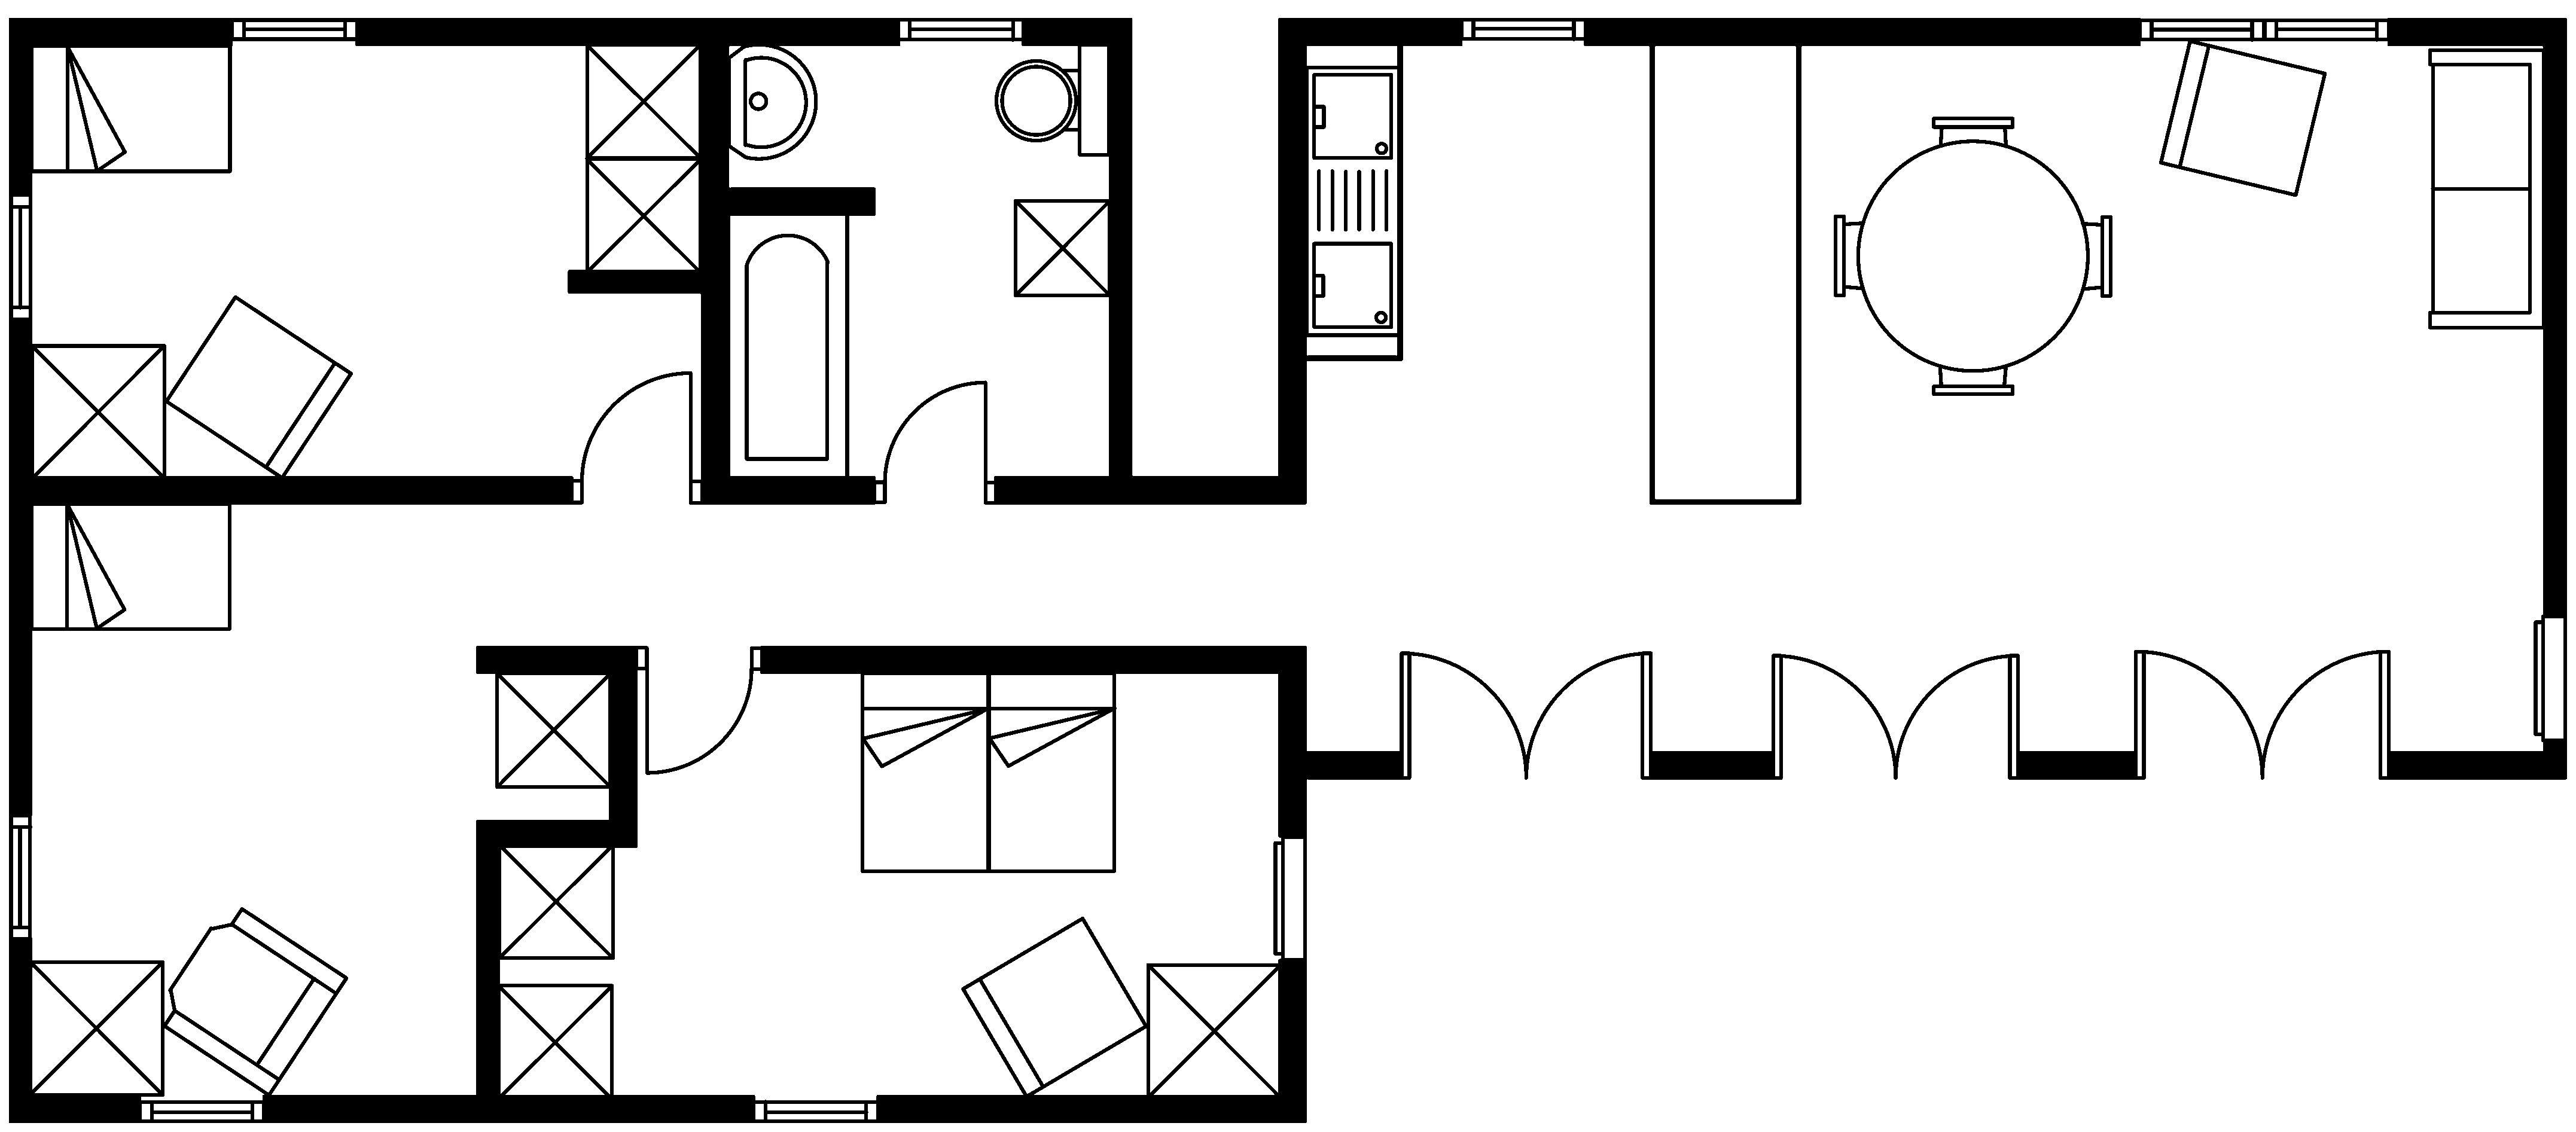armchair: (161, 905, 348, 1097)
bed: (30, 43, 232, 174), (859, 670, 991, 872), (986, 670, 1117, 872), (28, 501, 232, 631)
coffee_table: (26, 959, 164, 1097), (1145, 963, 1283, 1099), (30, 343, 166, 480), (583, 41, 702, 161), (494, 982, 614, 1101), (494, 670, 613, 789), (496, 841, 614, 959), (585, 156, 702, 274), (1012, 197, 1112, 297)
large_sink: (994, 41, 1111, 156)
large_sofa: (2426, 48, 2545, 330)
round_table: (1832, 115, 2113, 396)
small_sink: (726, 43, 816, 159)
small_sofa: (163, 294, 353, 480), (961, 915, 1148, 1099), (2159, 38, 2328, 197)
tub: (726, 210, 849, 483)
twin_sink: (1304, 64, 1401, 337)
